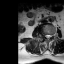CCS_normal: (47, 32, 49, 41)
LFS_normal: (50, 32, 52, 39)
LLS_normal: (49, 32, 50, 40)
RFS_normal: (43, 31, 45, 38)
RLS_normal: (45, 32, 47, 39)
